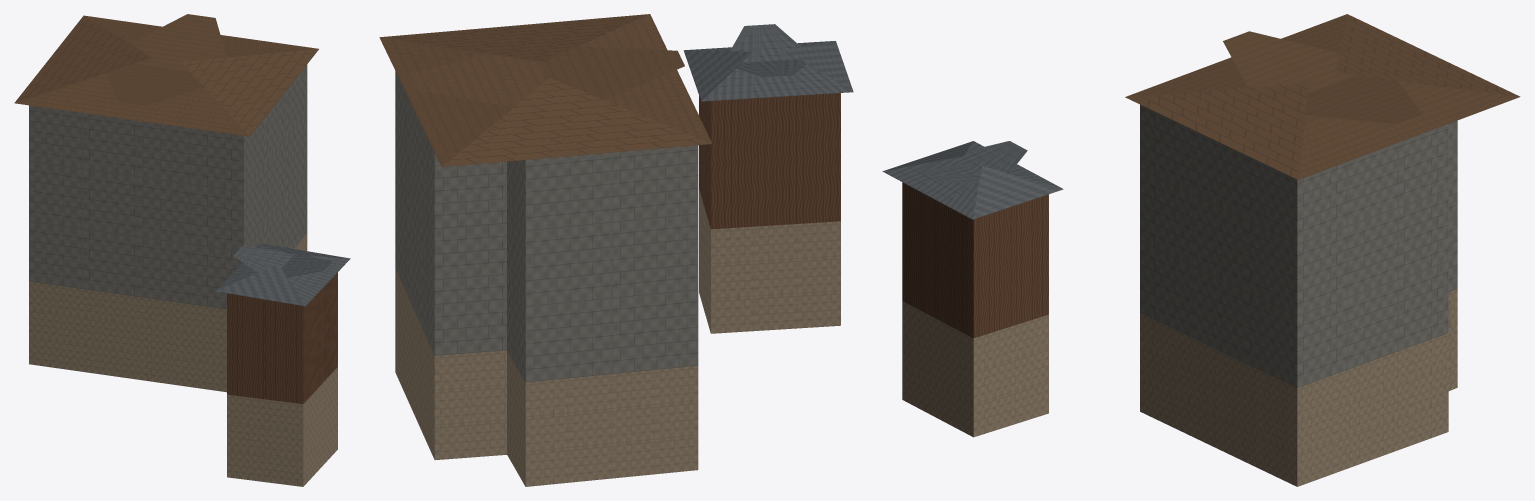
Rendered from bld_c21_31_373.gltf.
The picture shows the model from 3 angles, left to right: view 1: azimuth 30°, elevation 25°; view 2: azimuth 150°, elevation 25°; view 3: azimuth 270°, elevation 25°; orthographic projection. The views are drawn at different scales.
Visible parts, largest first — view 1: bld_c21_31_373; view 2: bld_c21_31_373; view 3: bld_c21_31_373.
Part boxes in pixels (<box>): bld_c21_31_373: <box>14,14,350,486</box>; bld_c21_31_373: <box>379,14,853,486</box>; bld_c21_31_373: <box>882,14,1520,486</box>.
Size of the model in its own units: 18.36 by 17.8 by 29.84.
Materials: 5 (5 with a texture image).
